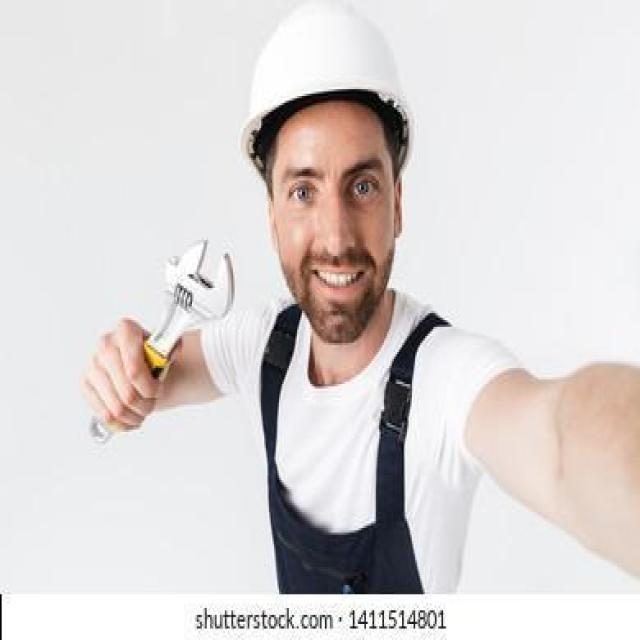helmet: (239, 0, 415, 162)
